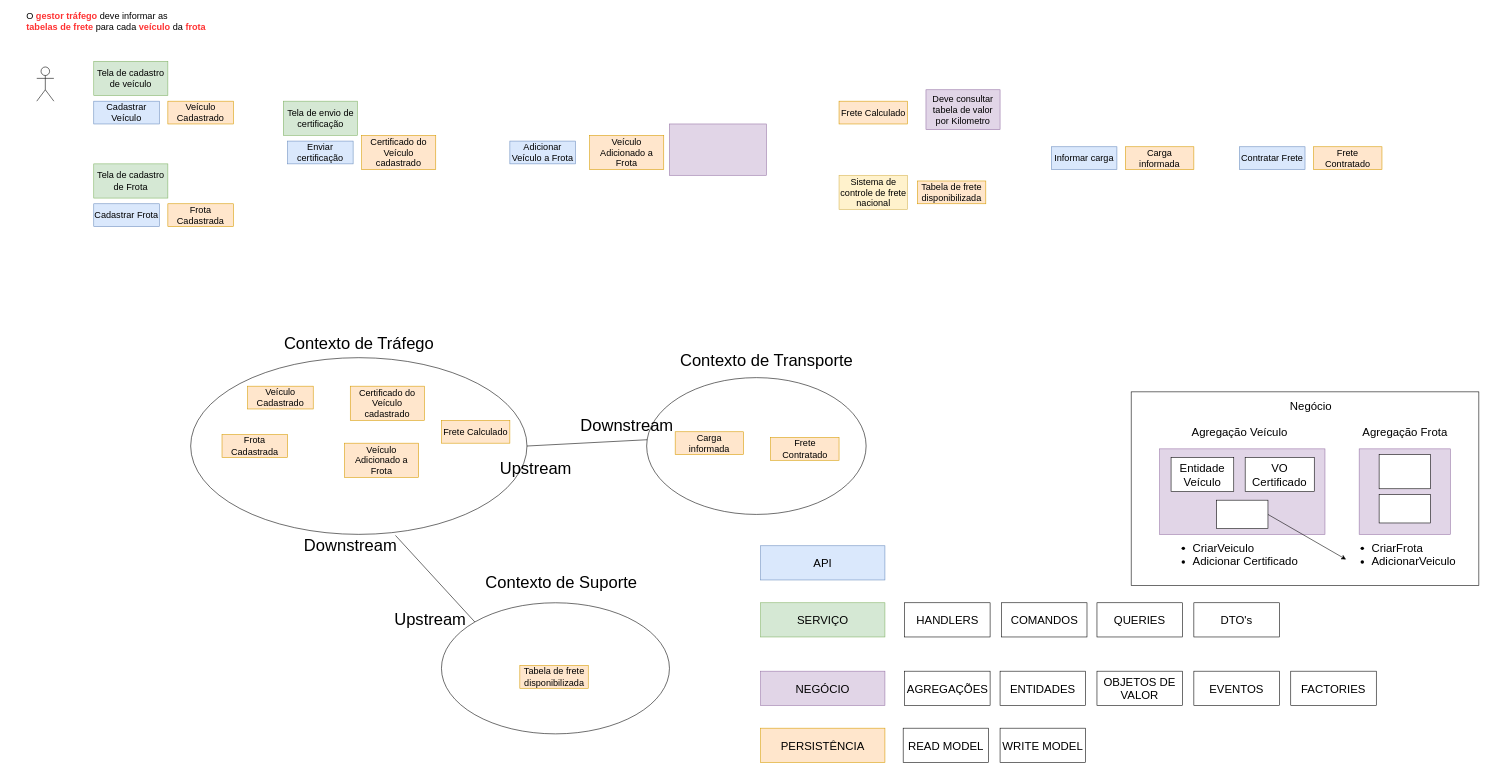
The diagram is 1489 pixels wide and 772 high, and some of its shapes have lost their labels. The shapes that lost their labels are listed below. From the top down, each one's centre as x and y in pixels, then its label:
At pixel 45 83: "Gestor de tráfego".
At pixel 717 149: "Só é possível adicionar veículos com certificação emitida pela ANTT".
At pixel 1404 471: "Entidade Frota".
At pixel 1242 514: "VeiculoId".
At pixel 1404 508: "FrotaId".
